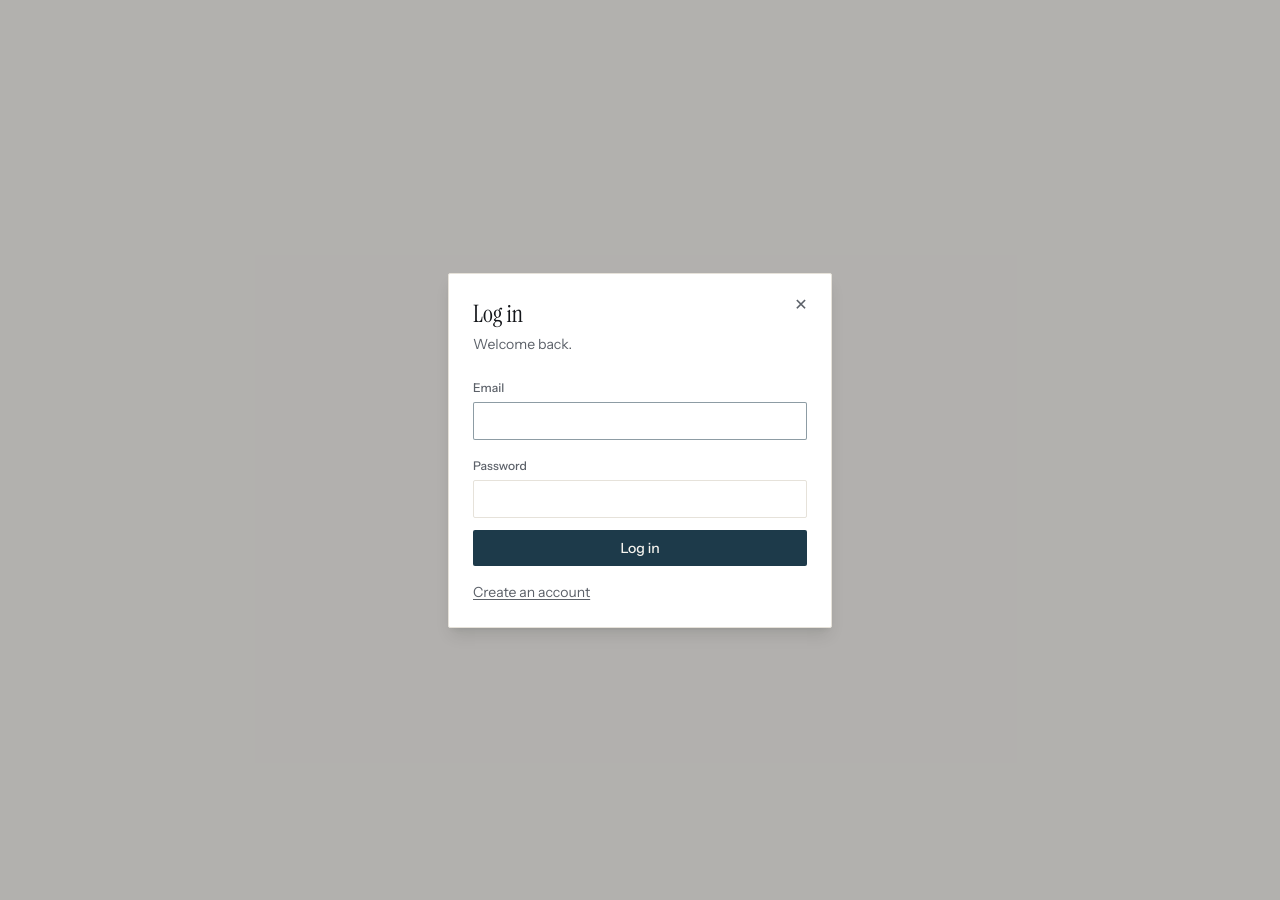
Test: <AccountDialog /> › shows what the backend said when logging in fails
The image size is (1280, 900).
Type "traveller@example.com" into the field labelled "Email" at {"x": 640, "y": 420}, box [473,402,807,440]
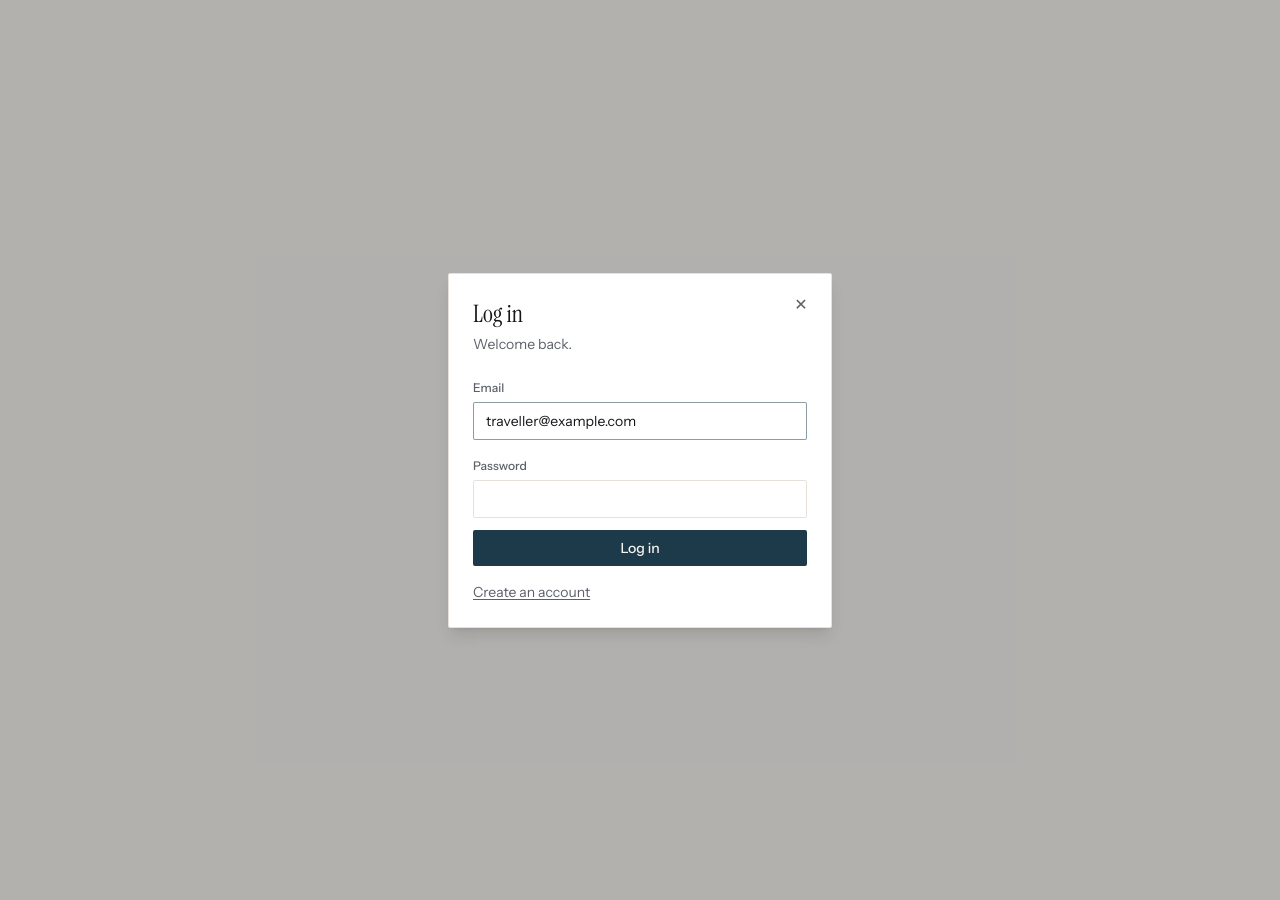
Type "wrong-password" into the password field labelled "Password" at {"x": 640, "y": 498}, box [473,480,807,518]
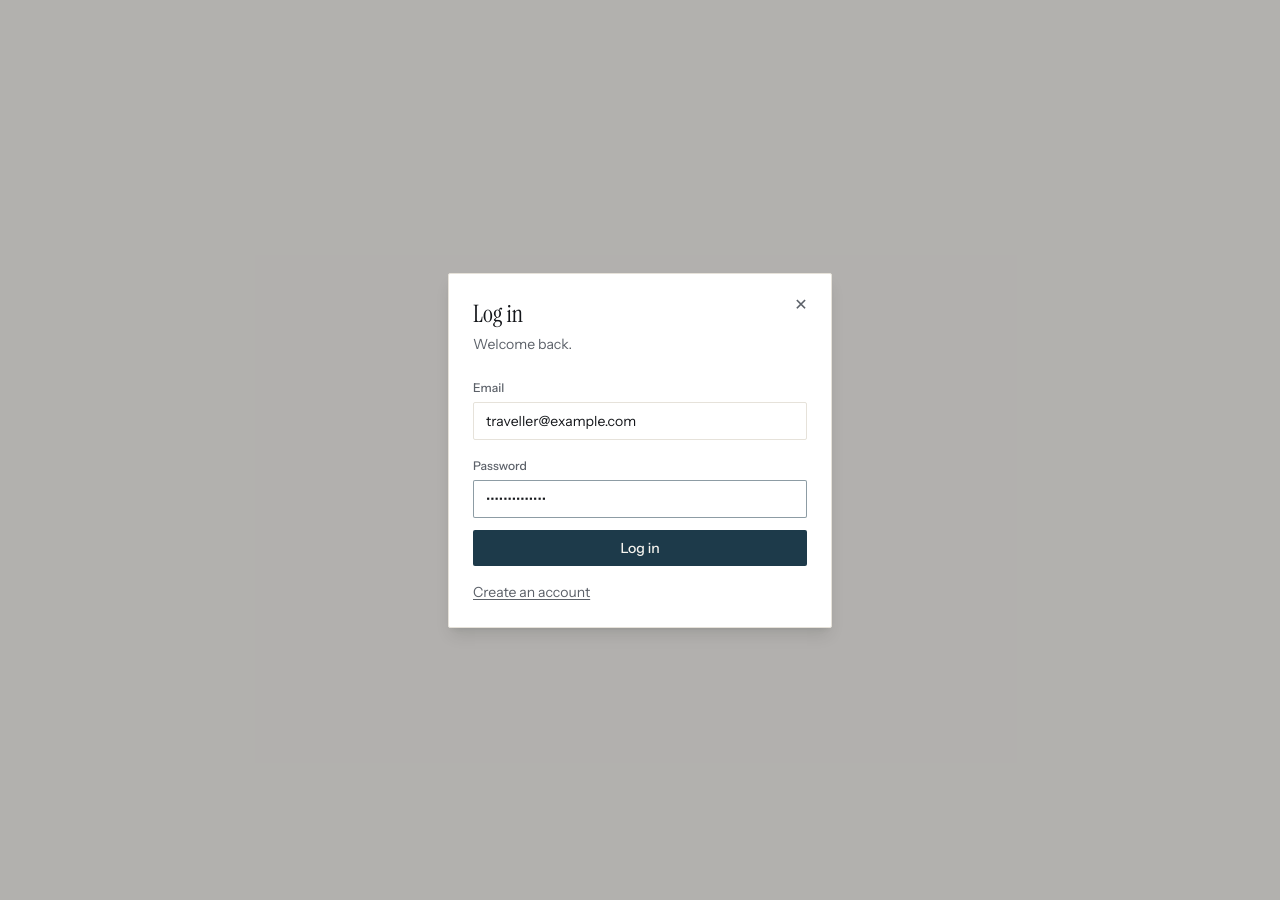
Click the button "Log in" at {"x": 640, "y": 548}, box [473,530,807,566]
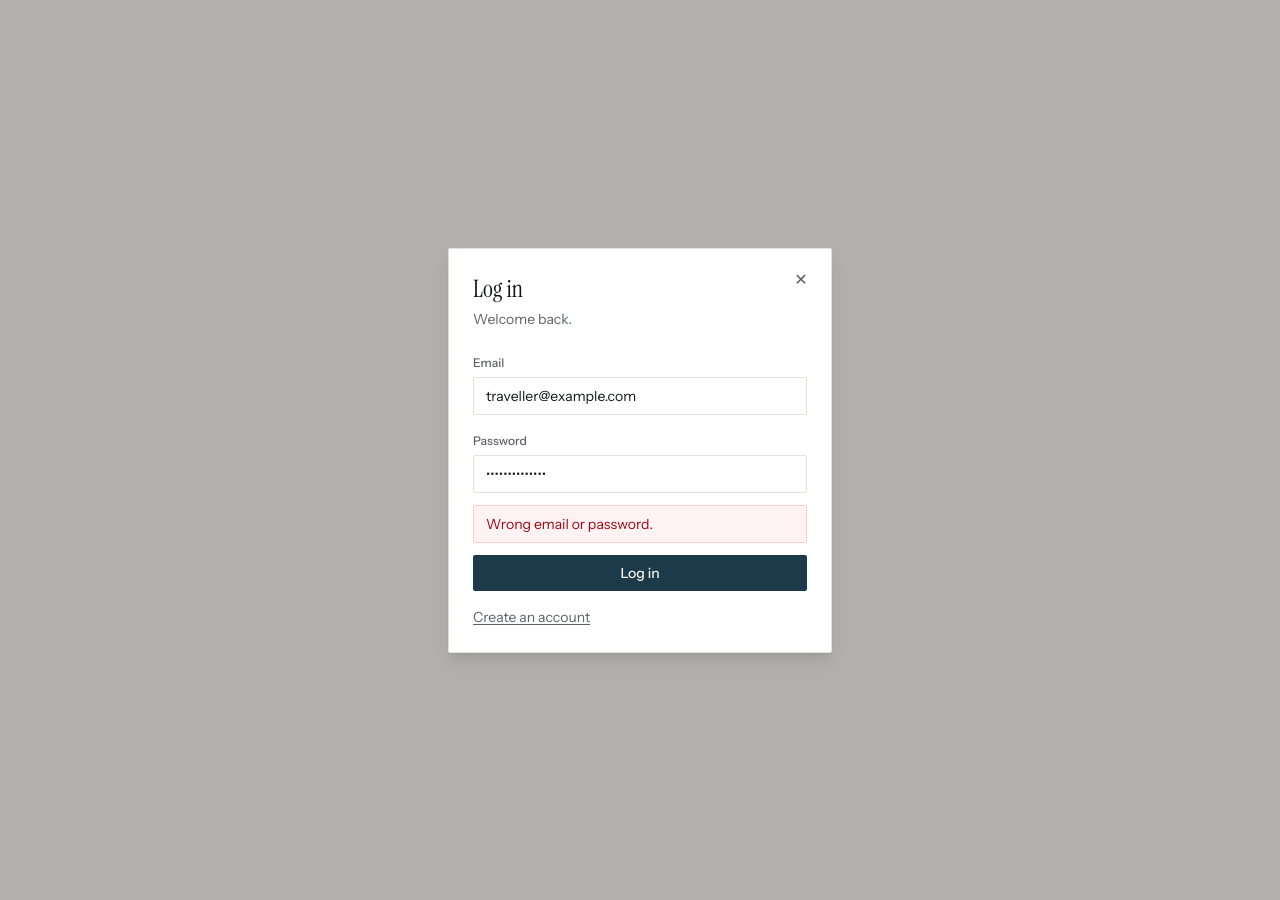
Check: the message reads "Wrong email or password.", box [486,514,653,532]
